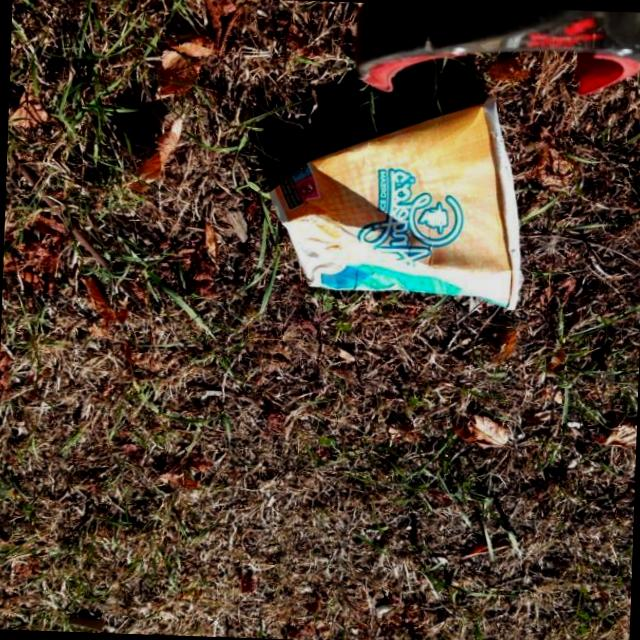Paper: (260, 85, 530, 314)
